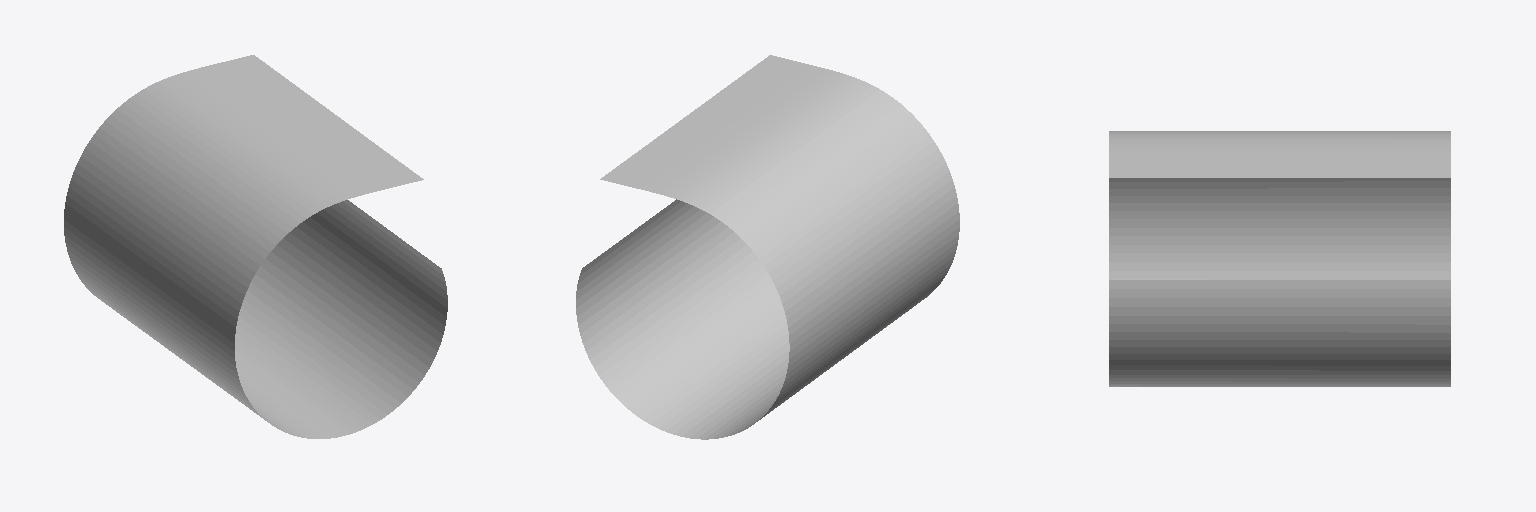
The model's file is CurvePaper_000016.obj.
The picture shows the model from 3 angles: view 1: azimuth 30°, elevation 25°; view 2: azimuth 150°, elevation 25°; view 3: azimuth 270°, elevation 25°; orthographic projection.
Visible parts, largest first — view 1: Plane; view 2: Plane; view 3: Plane.
Boxes of the visible parts, box(x1,y1,x2,y2) form: Plane: box(64, 55, 447, 438); Plane: box(576, 55, 959, 439); Plane: box(1109, 131, 1450, 386).
Bounding box in the file's own units: 1.64 × 1.74 × 2.26.